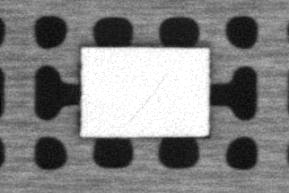DIE_CRACK: (125, 74, 166, 125)
